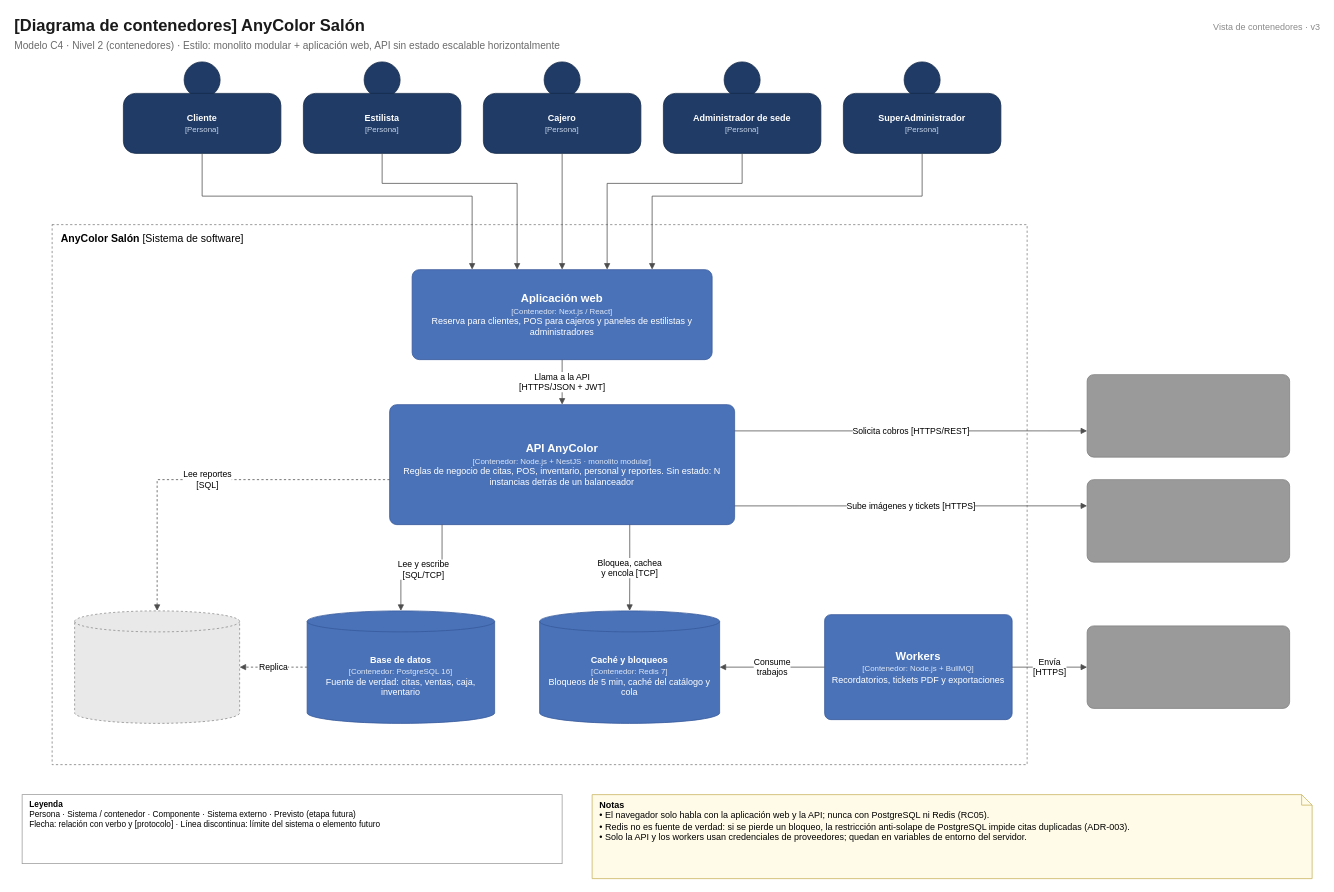
Some shapes in this 1334 by 892 pixel diagram are drawn without their labels. The centre of each missing label's shape, as x and y in pixels:
Almacenamiento de objetos [Sistema externo] S3 / Cloudinary (Etapa 2): pixel 1188 520
Pasarela de pagos [Sistema externo] Tarjeta y Yape/Plin: pixel 1188 415
Réplica de lectura [Contenedor: PostgreSQL] Reportes pesados (Etapa 3): pixel 157 666
Servicio de mensajería [Sistema externo] WhatsApp API / correo: pixel 1188 666
